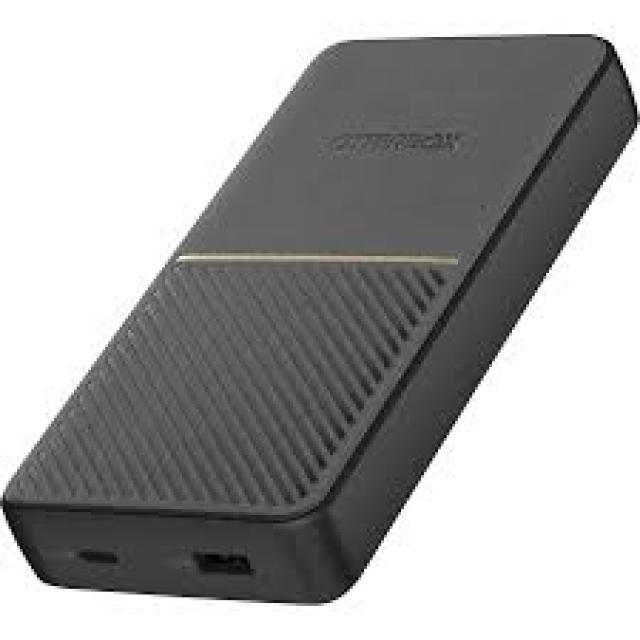power_bank: (0, 33, 640, 607)
